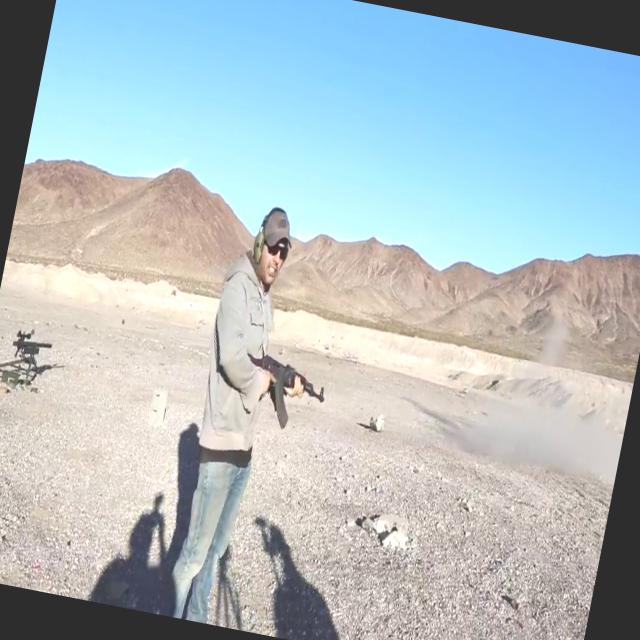long weapon: (228, 333, 340, 440), (0, 299, 73, 398)
